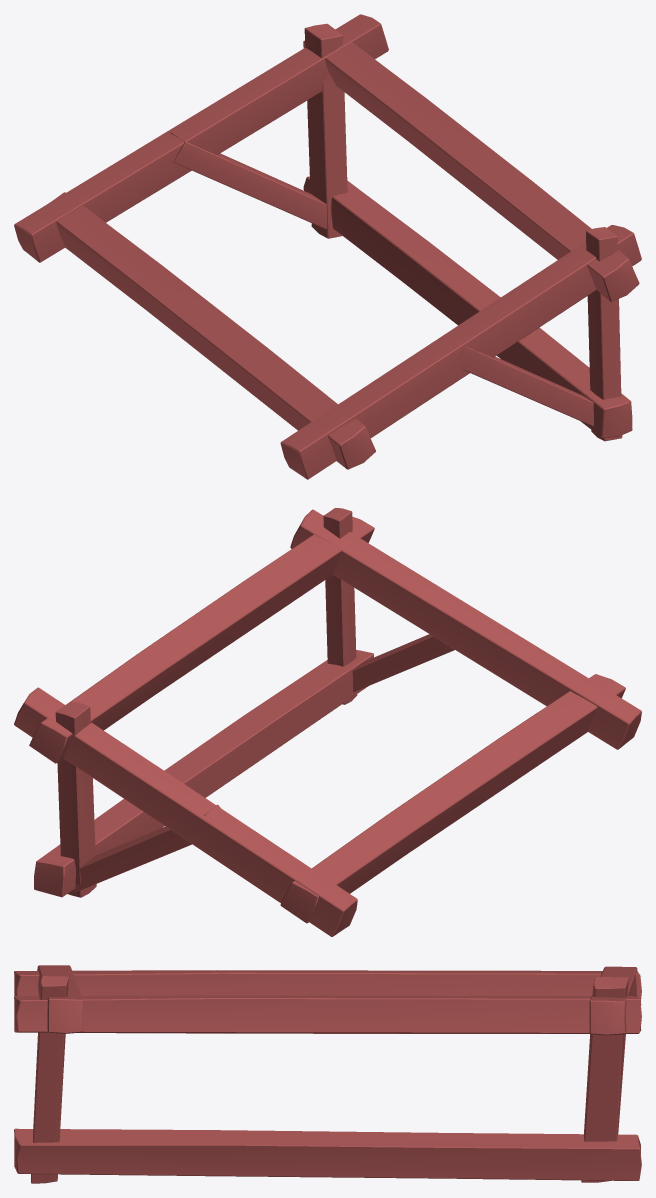
File: Beam_Structure_16B_Lod0.fbx
The picture shows the model from 3 angles, top to bottom: view 1: azimuth 30°, elevation 25°; view 2: azimuth 150°, elevation 25°; view 3: azimuth 270°, elevation 25°; orthographic projection. The views are drawn at different scales.
Visible parts, largest first — view 1: Beam_Structure_16B_Lod0; view 2: Beam_Structure_16B_Lod0; view 3: Beam_Structure_16B_Lod0.
Part boxes in pixels (x1=…): Beam_Structure_16B_Lod0: x1=14, y1=14, x2=641, y2=479; Beam_Structure_16B_Lod0: x1=14, y1=508, x2=641, y2=936; Beam_Structure_16B_Lod0: x1=14, y1=965, x2=641, y2=1183.
Bounding box in the file's own units: 218 × 113 × 320.
